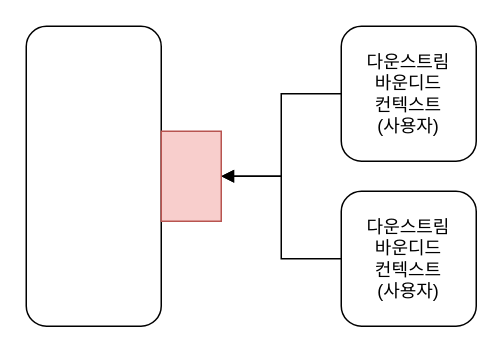
This 503x353 diagram has some shape labels left out. The centre of each missing label's shape, as x and y in pixels:
"O H S" goes at (x=190, y=175).
"업스트림 바운디드 컨텍스트 (제공자)" goes at (x=93, y=175).
